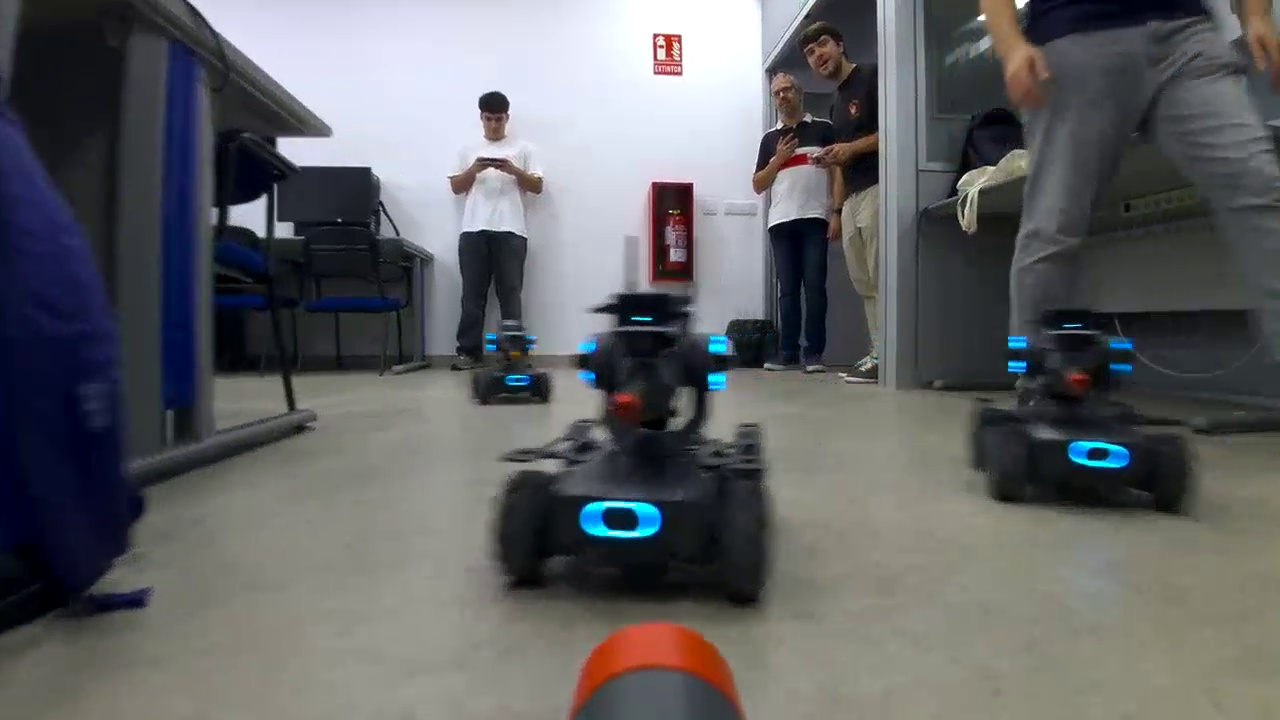robot: (487, 290, 771, 613), (955, 307, 1199, 520), (464, 312, 552, 408)
